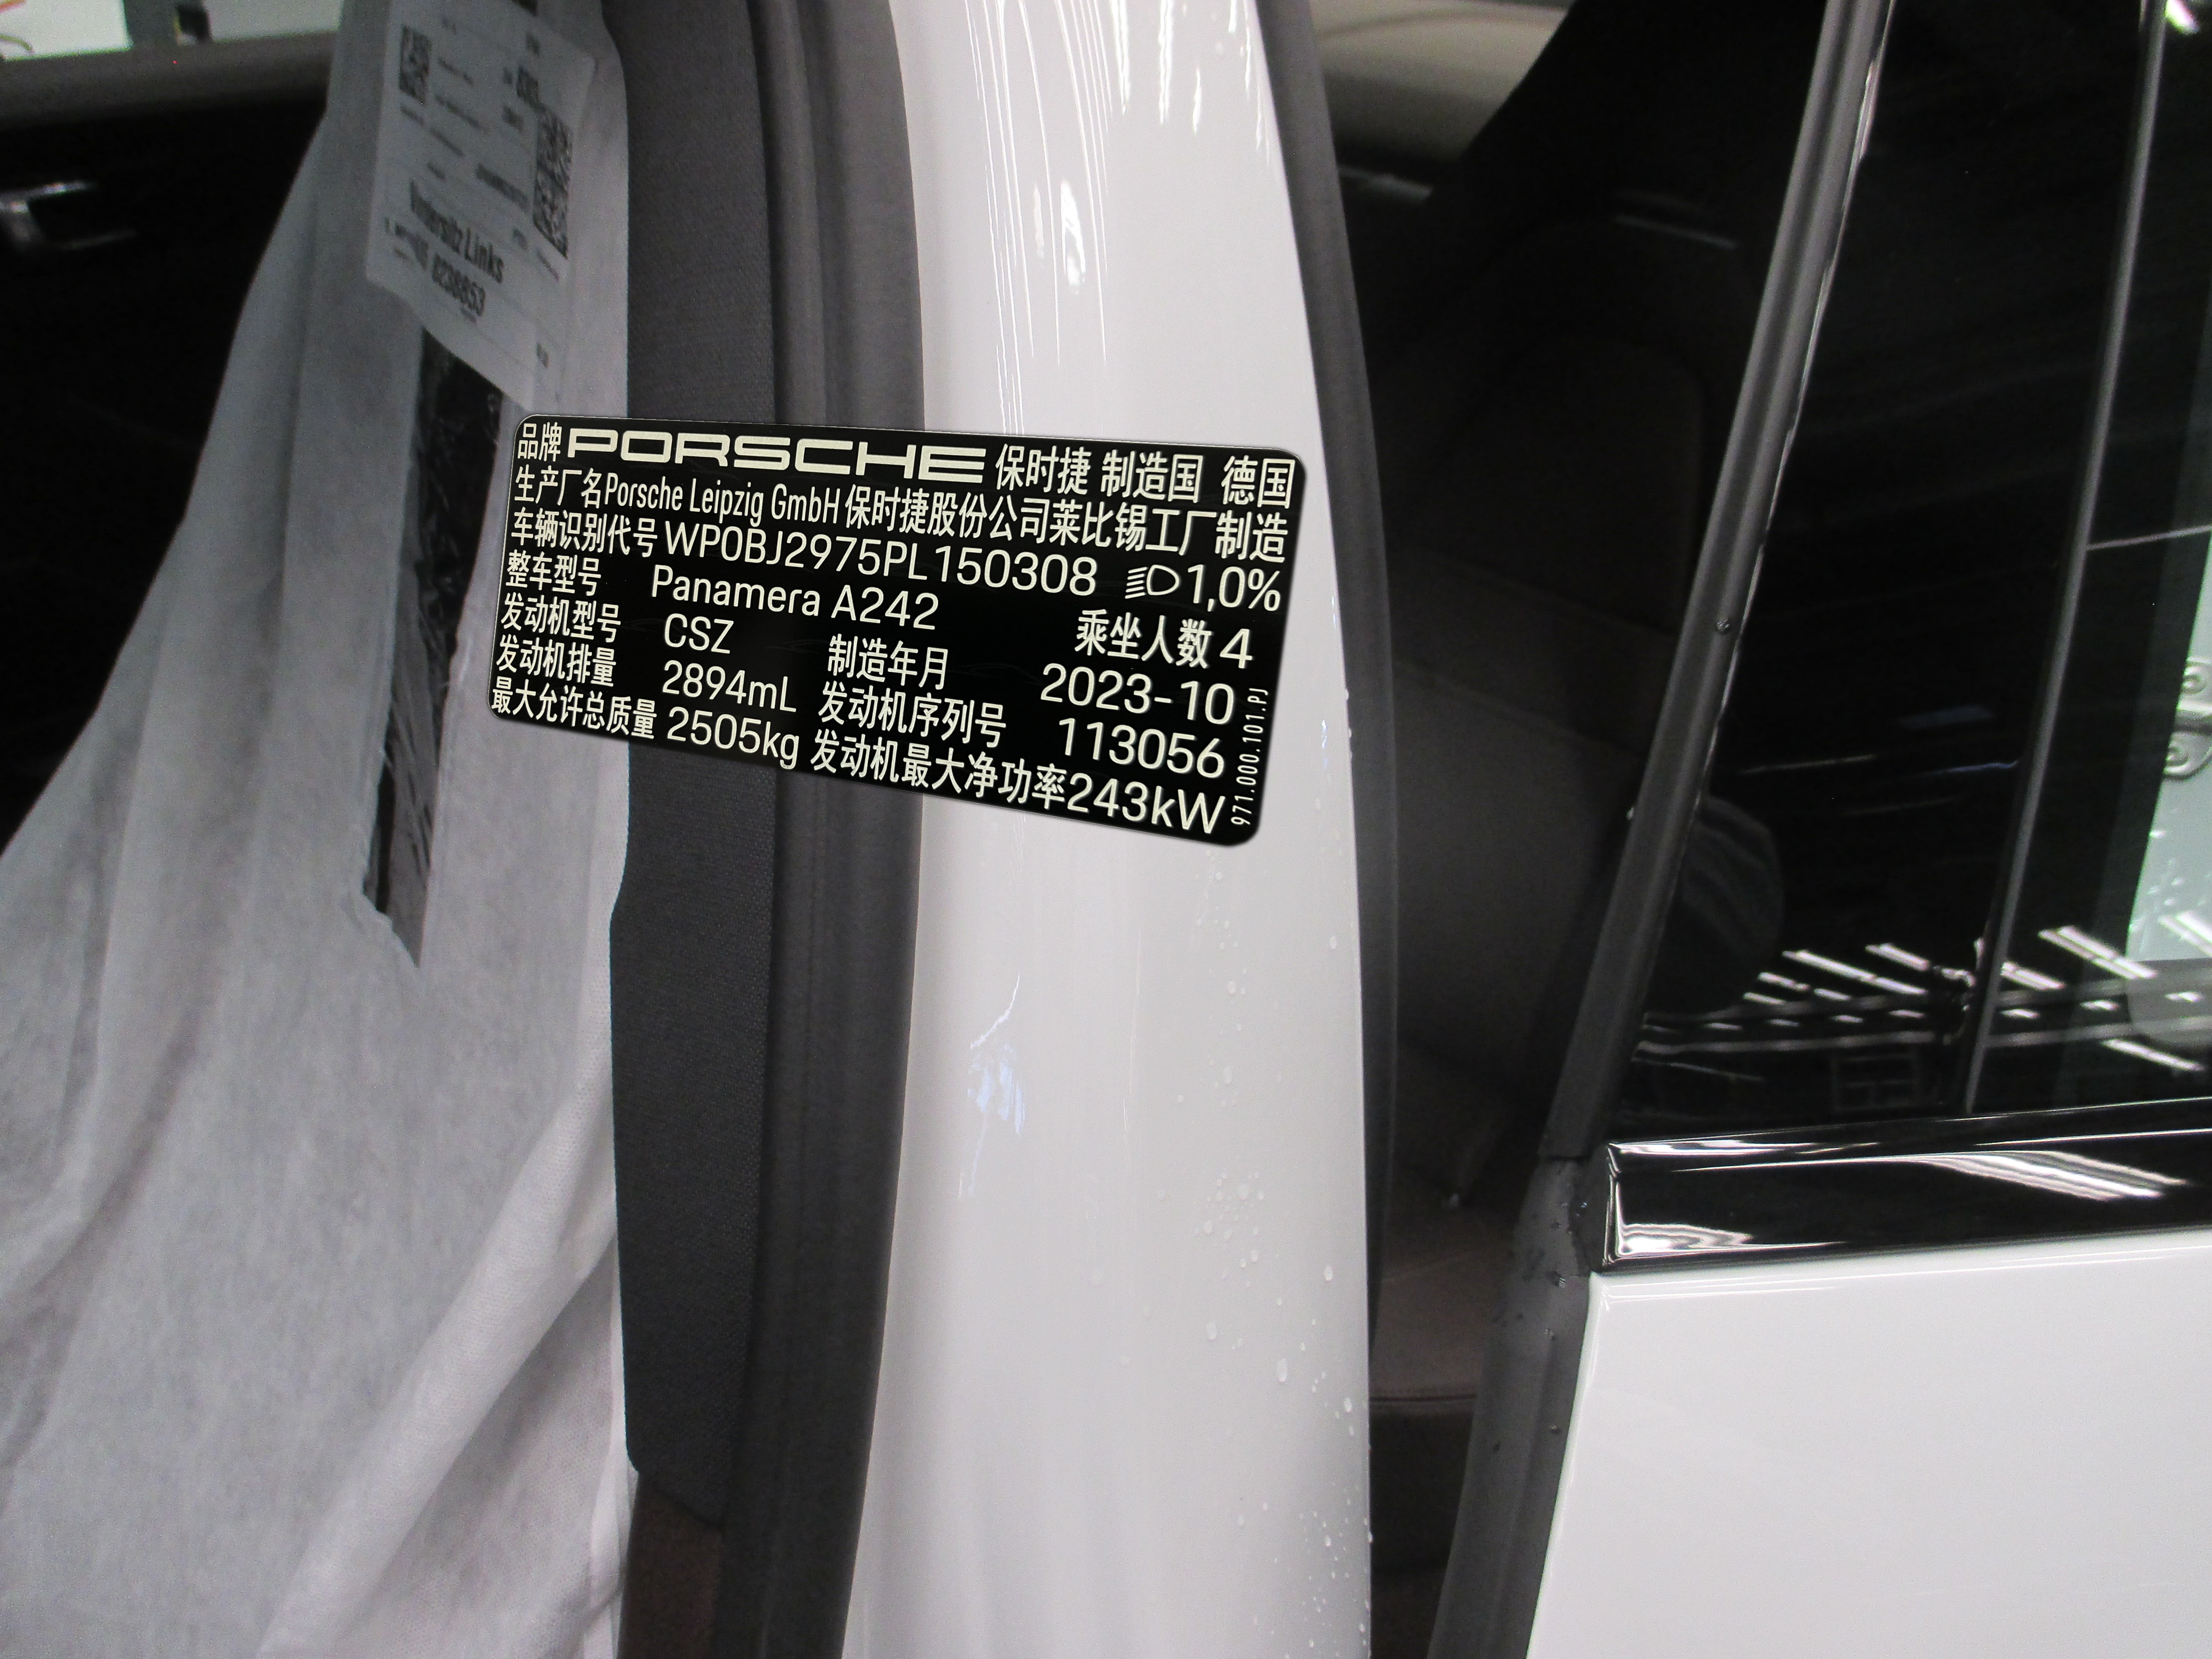Typlabel-China: (488, 415, 1306, 847)
